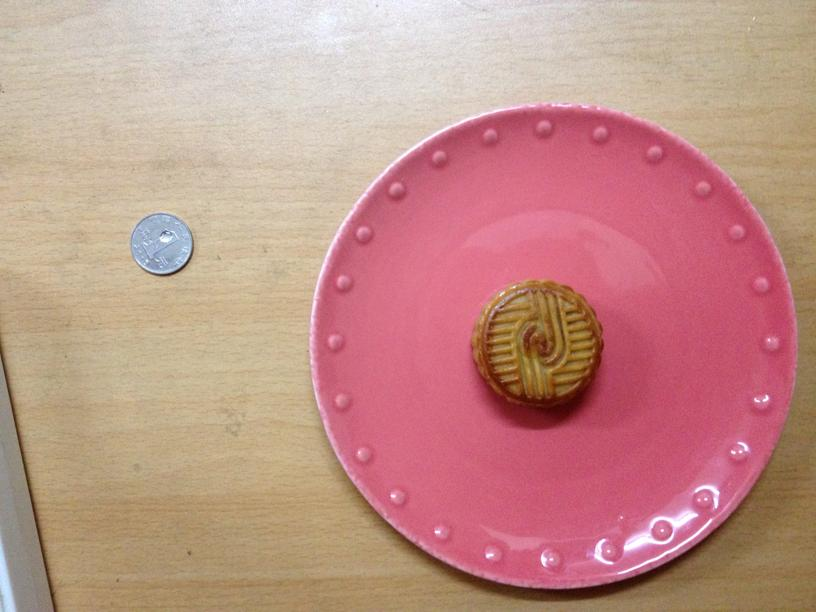coin: (131, 213, 193, 277)
mooncake: (474, 280, 604, 404)
